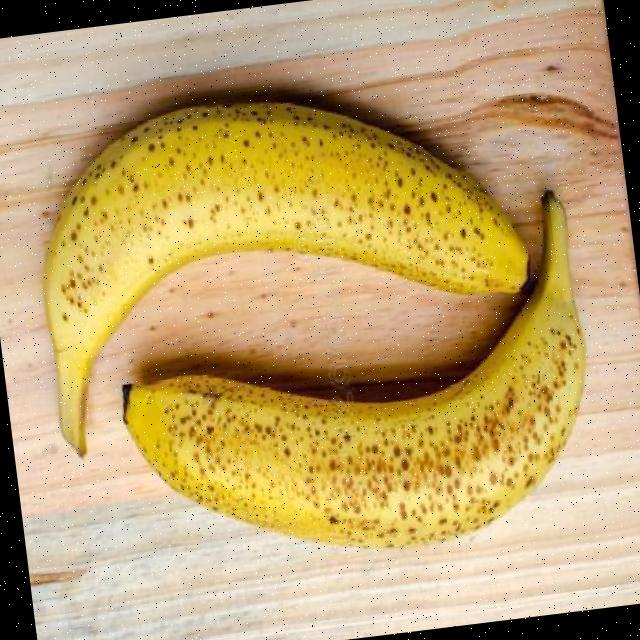banana: (122, 189, 588, 550), (74, 99, 532, 346)
